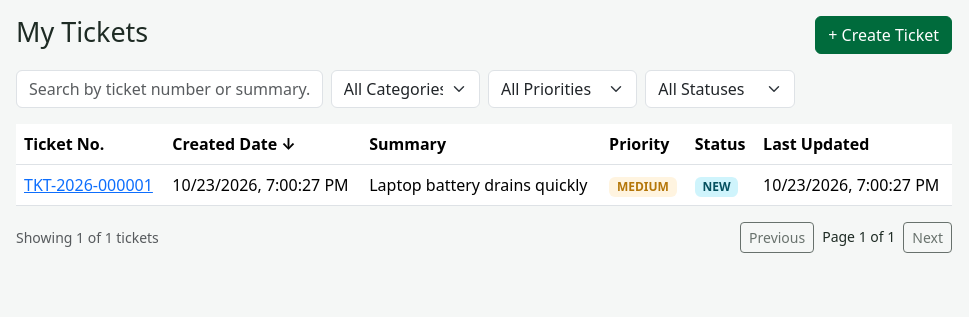
Test: MyTickets › shows the no-results state when filters match nothing but tickets exist
The width and height of the screenshot is (969, 317).
Type "nonexistent" into the field with placeholder "Search by ticket number or summary…" at [169, 89], box [16,70,323,108]
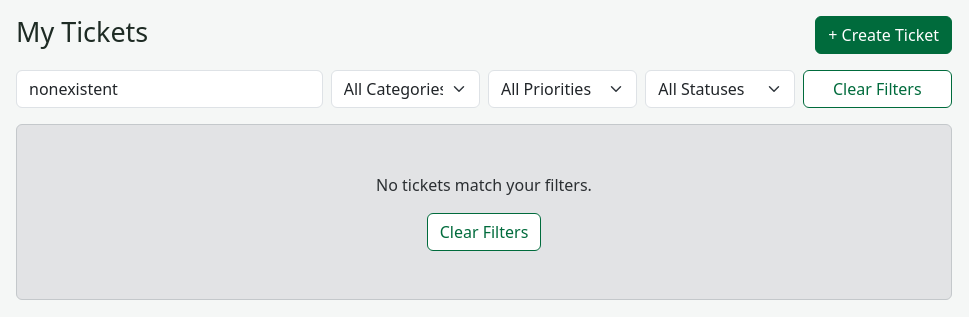
Result: the text "No tickets match your filters." is shown at [376,174,592,196]
